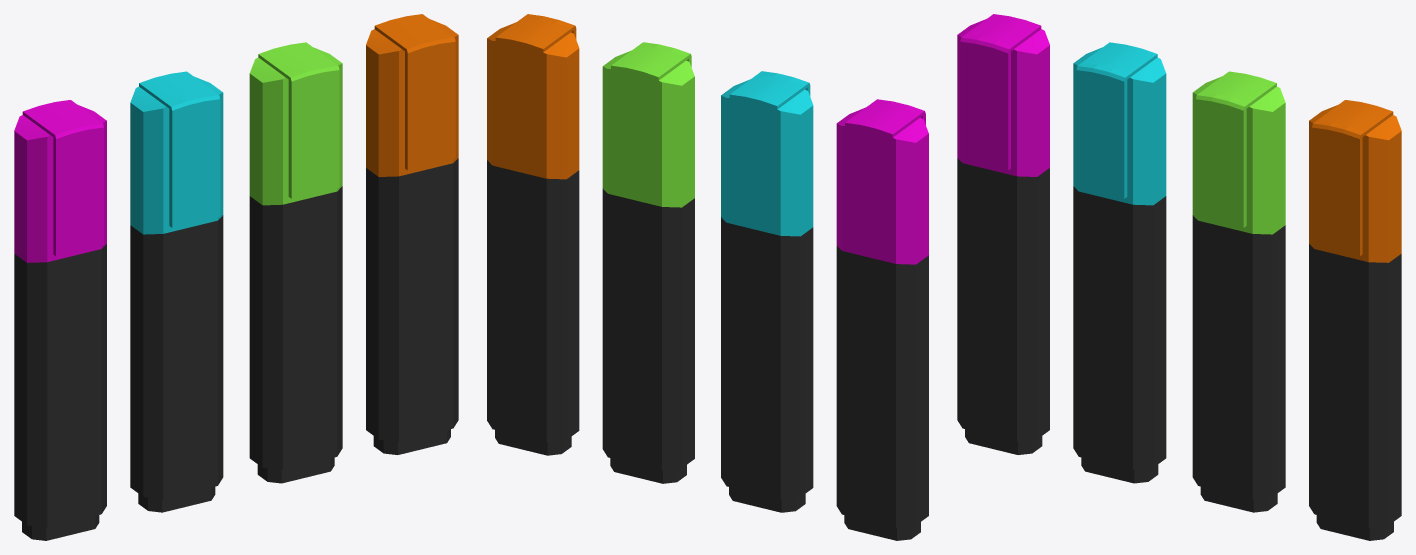
The model's file is markers.fbx.
3 views of the same model, side by side, from view 1: azimuth 30°, elevation 25°; view 2: azimuth 150°, elevation 25°; view 3: azimuth 330°, elevation 25° (orthographic).
Parts seen in each view (by area): view 1: marker_blue, marker_green, marker_pink, marker_orange; view 2: marker_orange, marker_blue, marker_pink, marker_green; view 3: marker_green, marker_blue, marker_orange, marker_pink.
Boxes of the visible parts, bbox=[...] form: marker_blue: bbox=[130, 71, 223, 512]; marker_green: bbox=[249, 42, 342, 483]; marker_pink: bbox=[14, 100, 106, 540]; marker_orange: bbox=[366, 14, 458, 454]; marker_orange: bbox=[487, 14, 579, 455]; marker_blue: bbox=[721, 71, 813, 512]; marker_pink: bbox=[836, 99, 928, 540]; marker_green: bbox=[602, 42, 694, 483]; marker_green: bbox=[1192, 71, 1285, 512]; marker_blue: bbox=[1073, 42, 1166, 483]; marker_orange: bbox=[1309, 100, 1401, 540]; marker_pink: bbox=[957, 14, 1049, 454].
Bounding box in the file's own units: 20.83 × 19.06 × 2.78.
